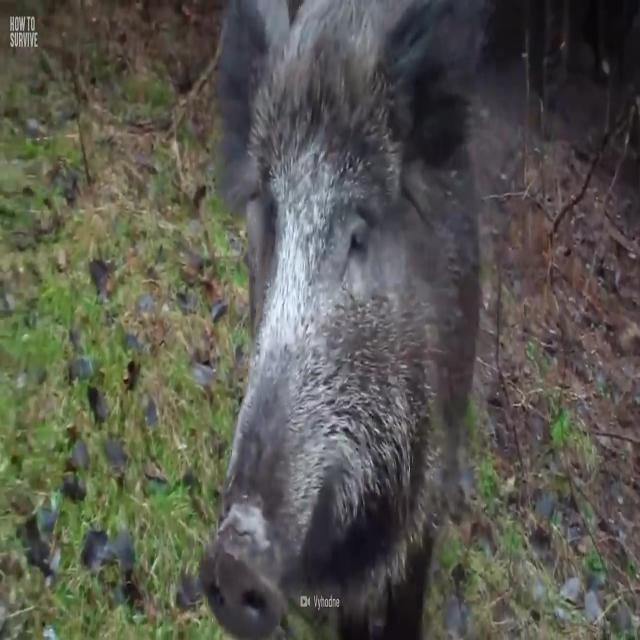pig: (202, 0, 501, 640)
